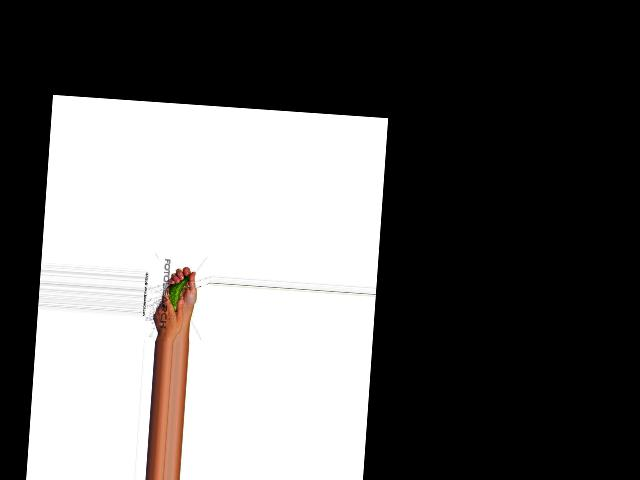cucumber: (166, 273, 189, 313)
